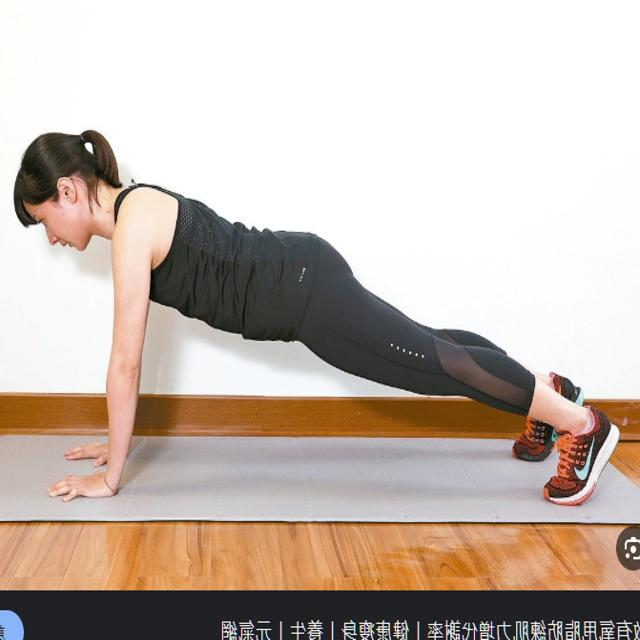Plank_Pose: (6, 114, 623, 513)
